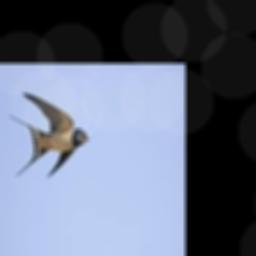Swallow: (8, 91, 89, 177)
